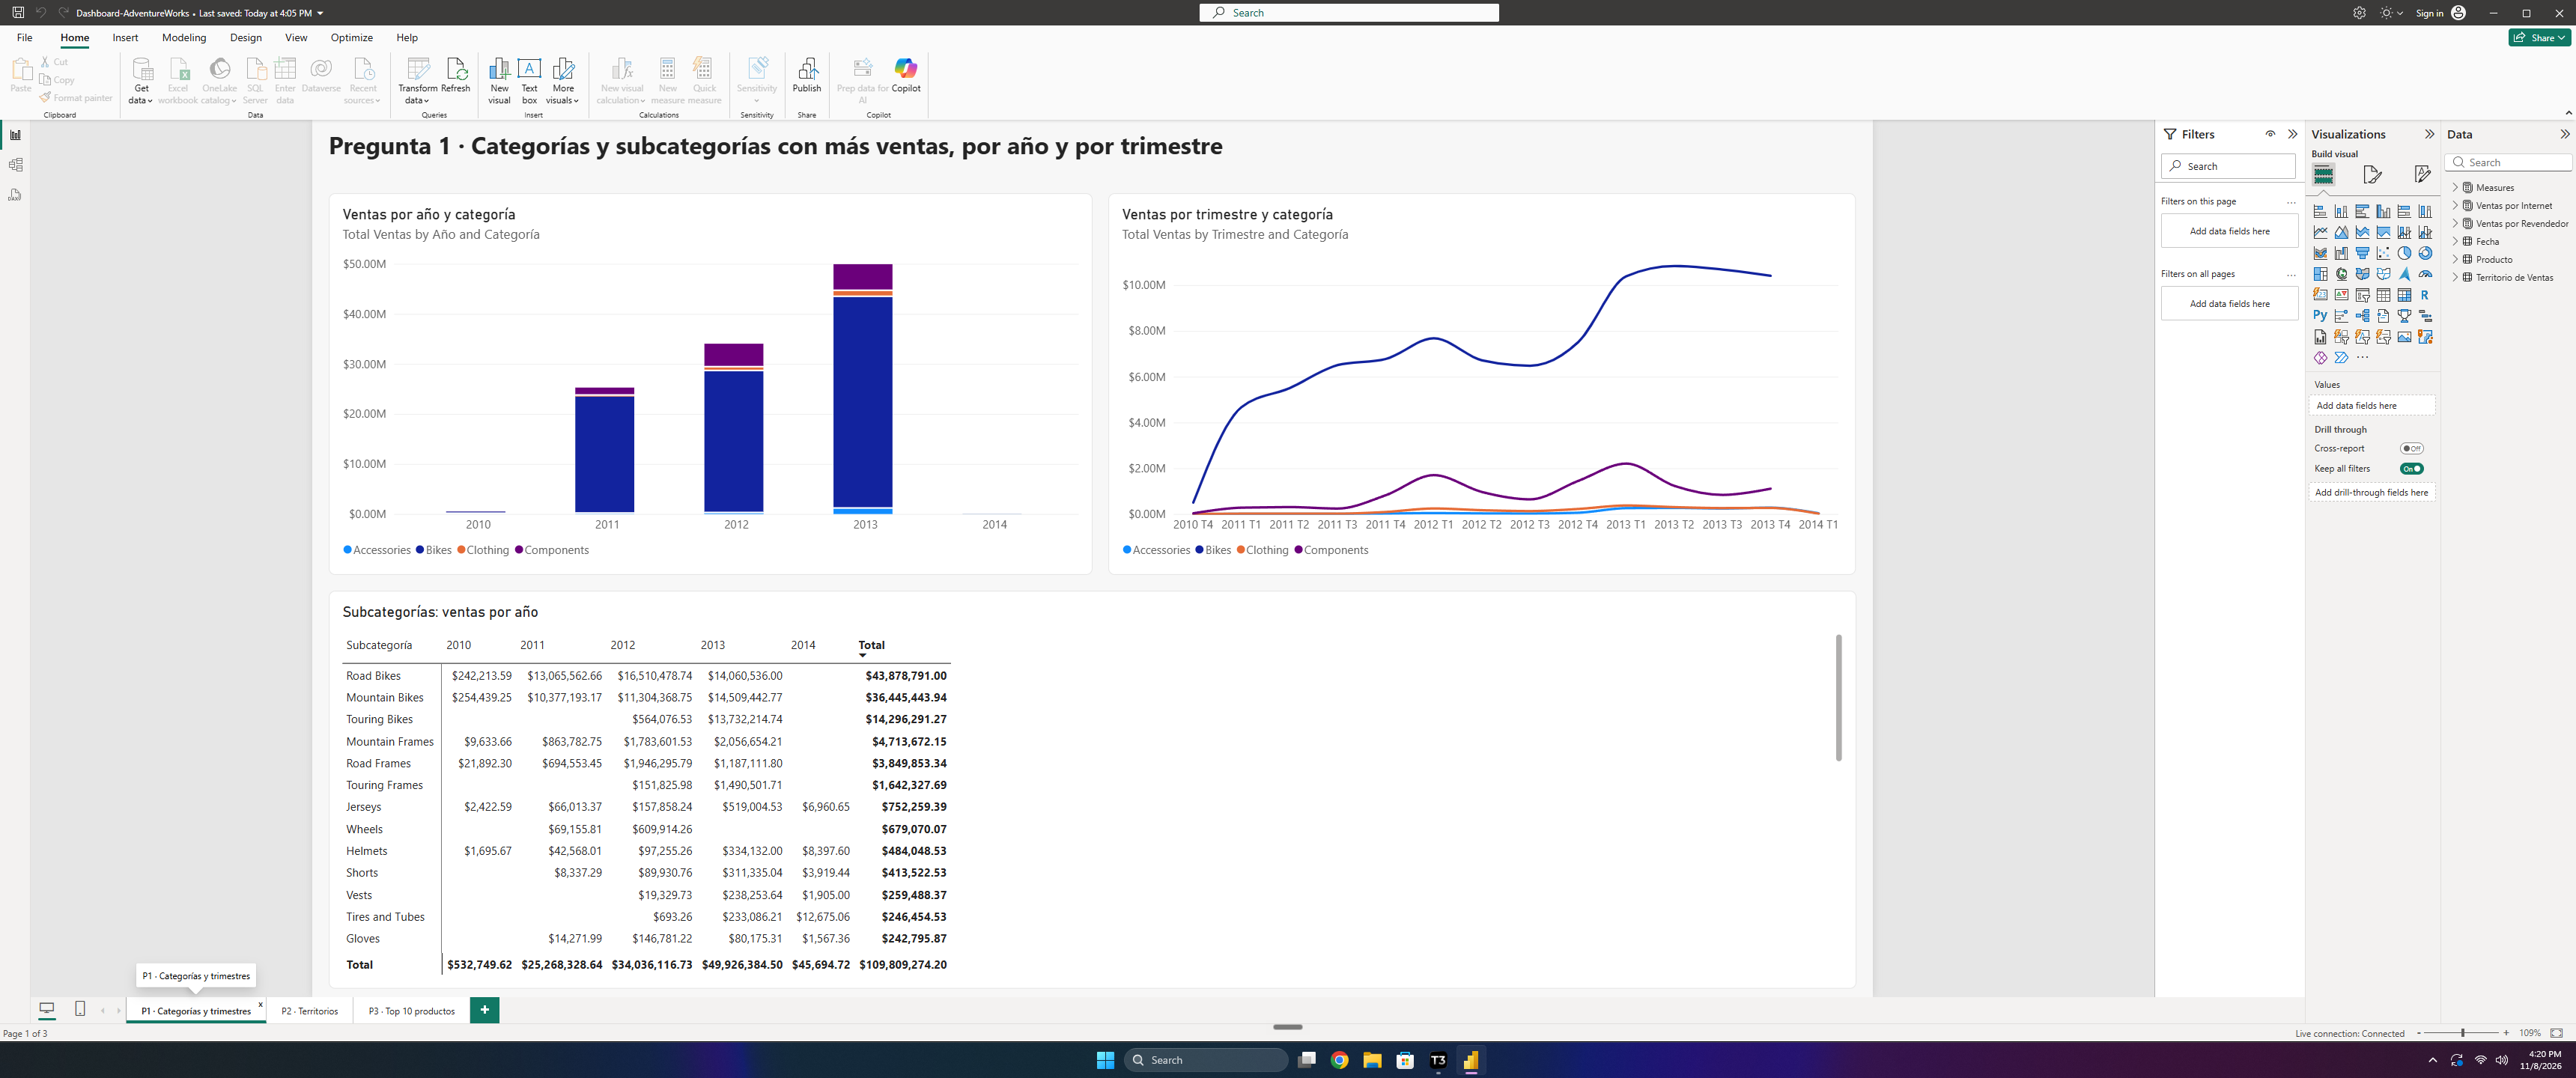

Layout of this report page (visuals, bound fields, positions):
{"tool":"powerbi","page":{"name":"P1 · Categorías y trimestres","canvas":[1920,1080],"ordinal":0},"visuals":[{"type":"textbox","box":[20,10,1880,70],"z":0},{"type":"columnChart","title":"Ventas por año y categoría","fields":{"Category":["Fecha.Año"],"Series":["Producto.Categoría"],"Y":["Measures.Total Ventas"]},"box":[20,90,940,470],"z":1},{"type":"lineChart","title":"Ventas por trimestre y categoría","fields":{"Category":["Fecha.Trimestre"],"Series":["Producto.Categoría"],"Y":["Measures.Total Ventas"]},"box":[980,90,920,470],"z":2},{"type":"pivotTable","title":"Subcategorías: ventas por año","fields":{"Rows":["Producto.Subcategoría"],"Columns":["Fecha.Año"],"Values":["Measures.Total Ventas"]},"box":[20,580,1880,490],"z":3}]}

Visuals, with their boxes on the page's 1920x1080 design canvas (x1, y1, x2, y2). These are canvas units, not pixel positions in the 2576x1078 screenshot, which may show the page scaled, cropped or inside an application window:
textbox: (20, 10, 1900, 80)
"Ventas por año y categoría" columnChart: (20, 90, 960, 560)
"Ventas por trimestre y categoría" lineChart: (980, 90, 1900, 560)
"Subcategorías: ventas por año" pivotTable: (20, 580, 1900, 1070)
